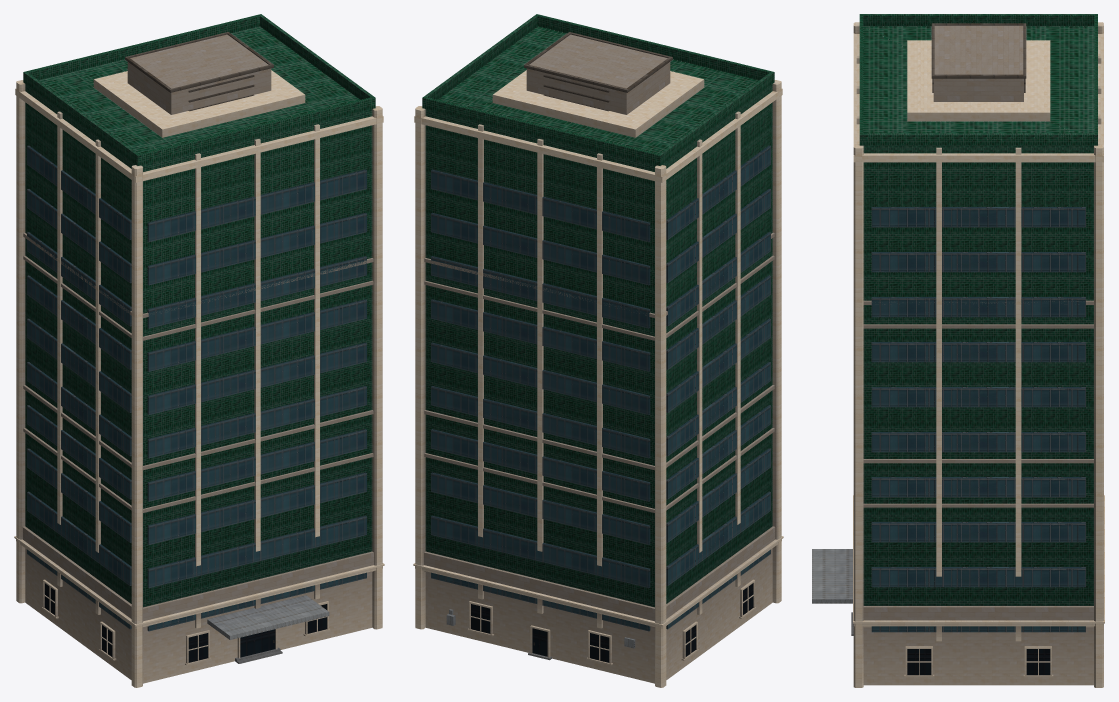
File: witherell-court-tower_lod0.gltf
3 renders of one model, left to right at view 1: azimuth 30°, elevation 25°; view 2: azimuth 150°, elevation 25°; view 3: azimuth 270°, elevation 25°, orthographic. The views are drawn at different scales.
Parts seen in each view (by area): view 1: witherell-court-tower_upper, witherell-court-tower_fen_07-glass-curtain-blue_0, witherell-court-tower__v4_stone_detail, witherell-court-tower_base, witherell-court-tower__crown_step_1, witherell-court-tower__cornice, witherell-court-tower__parapet_front, witherell-court-tower__canopy, witherell-court-tower__parapet_back, witherell-court-tower_fen_07-glass-curtain-blue_2_t, witherell-court-tower__v4_metal_detail, witherell-court-tower__string_course_1 (+4 smaller); view 2: witherell-court-tower_upper, witherell-court-tower_fen_07-glass-curtain-blue_0, witherell-court-tower__v4_stone_detail, witherell-court-tower_base, witherell-court-tower__crown_step_1, witherell-court-tower__cornice, witherell-court-tower__parapet_back, witherell-court-tower__parapet_front, witherell-court-tower_fen_07-glass-curtain-blue_2_t, witherell-court-tower__v4_metal_detail, witherell-court-tower__string_course_1, witherell-court-tower__string_course_2 (+3 smaller); view 3: witherell-court-tower_upper, witherell-court-tower_fen_07-glass-curtain-blue_0, witherell-court-tower__v4_stone_detail, witherell-court-tower_base, witherell-court-tower__crown_step_1, witherell-court-tower__cornice, witherell-court-tower__parapet_right, witherell-court-tower__parapet_left, witherell-court-tower__canopy, witherell-court-tower_fen_07-glass-curtain-blue_2_t, witherell-court-tower__v4_metal_detail, witherell-court-tower__string_course_2 (+4 smaller).
Part boxes in pixels (x1,y1,x2,y2): witherell-court-tower_upper: (25,26,372,607); witherell-court-tower_fen_07-glass-curtain-blue_0: (27,145,366,631); witherell-court-tower__v4_stone_detail: (14,34,384,687); witherell-court-tower_base: (25,548,372,683); witherell-court-tower__crown_step_1: (93,70,305,137); witherell-court-tower__cornice: (15,88,383,182); witherell-court-tower__parapet_front: (136,96,375,165); witherell-court-tower__canopy: (207,595,329,639); witherell-court-tower__parapet_back: (23,14,262,83); witherell-court-tower_fen_07-glass-curtain-blue_2_t: (44,583,326,662); witherell-court-tower__v4_metal_detail: (125,32,273,111); witherell-court-tower__string_course_1: (23,428,373,512); witherell-court-tower_upper: (425,26,772,607); witherell-court-tower_fen_07-glass-curtain-blue_0: (431,145,770,631); witherell-court-tower__v4_stone_detail: (413,34,783,687); witherell-court-tower_base: (425,548,772,683); witherell-court-tower__crown_step_1: (492,70,704,137); witherell-court-tower__cornice: (414,88,782,182); witherell-court-tower__parapet_back: (422,96,661,165); witherell-court-tower__parapet_front: (535,14,774,83); witherell-court-tower_fen_07-glass-curtain-blue_2_t: (471,583,753,662); witherell-court-tower__v4_metal_detail: (524,32,672,111); witherell-court-tower__string_course_1: (424,428,774,512); witherell-court-tower__string_course_2: (424,255,774,340); witherell-court-tower_upper: (863,26,1094,605); witherell-court-tower_fen_07-glass-curtain-blue_0: (871,207,1085,632); witherell-court-tower__v4_stone_detail: (853,22,1104,687); witherell-court-tower_base: (863,627,1093,685); witherell-court-tower__crown_step_1: (907,40,1050,121); witherell-court-tower__cornice: (853,33,1103,162); witherell-court-tower__parapet_right: (863,133,1094,145); witherell-court-tower__parapet_left: (863,14,1094,26); witherell-court-tower__canopy: (812,549,852,603); witherell-court-tower_fen_07-glass-curtain-blue_2_t: (907,649,1050,675); witherell-court-tower__v4_metal_detail: (931,23,1026,92); witherell-court-tower__string_course_2: (863,324,1093,328).
Bounding box in the file's own units: 25.15 × 53.3 × 24.58.
